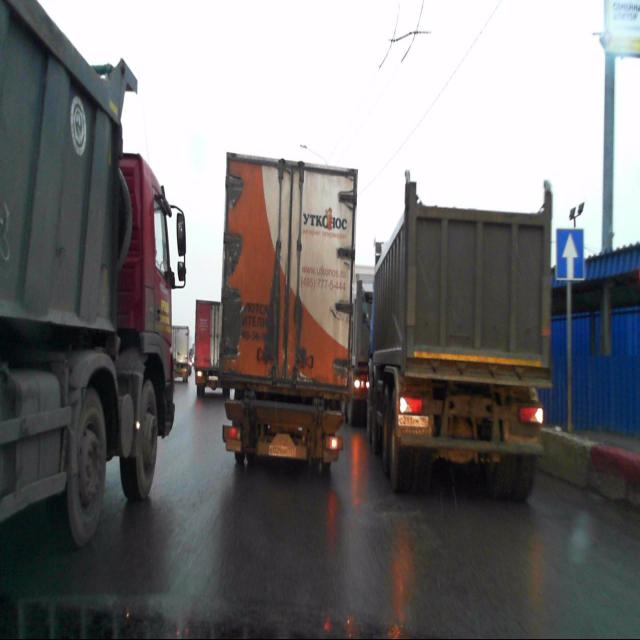road sign: (556, 228, 584, 280)
